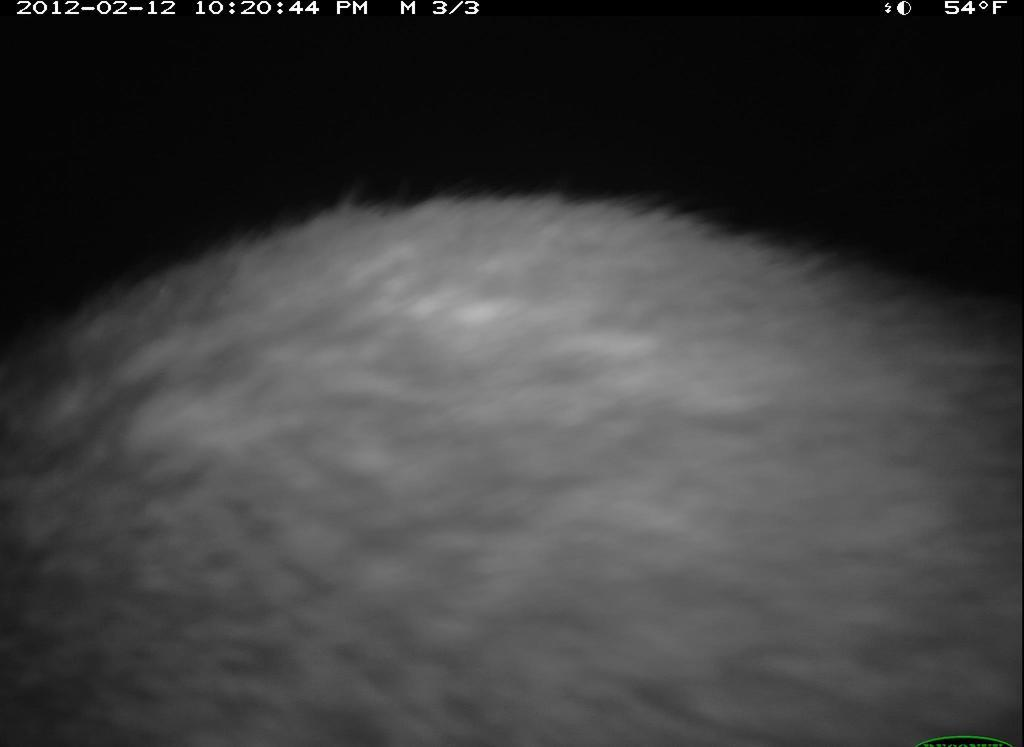raccoon: (3, 186, 1023, 742)
